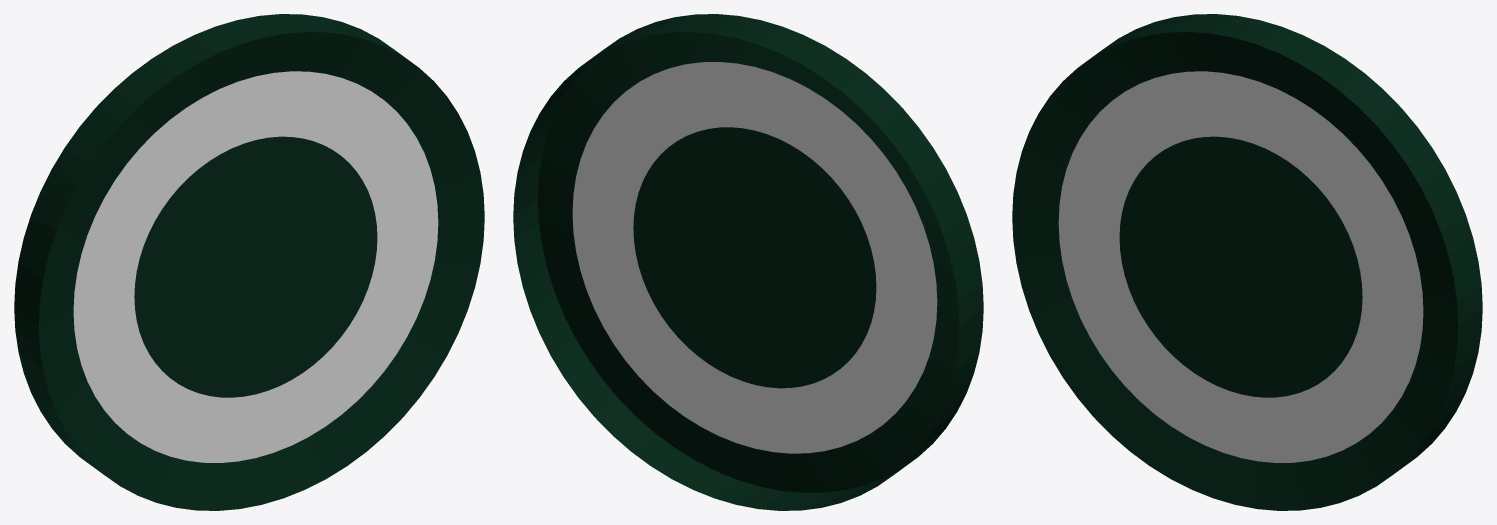
Rendered from DotTerminus.glb.
3 renders of one model, left to right at view 1: azimuth 30°, elevation 25°; view 2: azimuth 150°, elevation 25°; view 3: azimuth 330°, elevation 25°, orthographic.
Visible parts, largest first — view 1: DotTerminus; view 2: DotTerminus; view 3: DotTerminus.
Boxes of the visible parts, x1=… form: DotTerminus: x1=14, y1=14, x2=484, y2=510; DotTerminus: x1=513, y1=14, x2=983, y2=510; DotTerminus: x1=1012, y1=14, x2=1482, y2=510.
Bounding box in the file's own units: 0.22 × 0.22 × 0.021.
